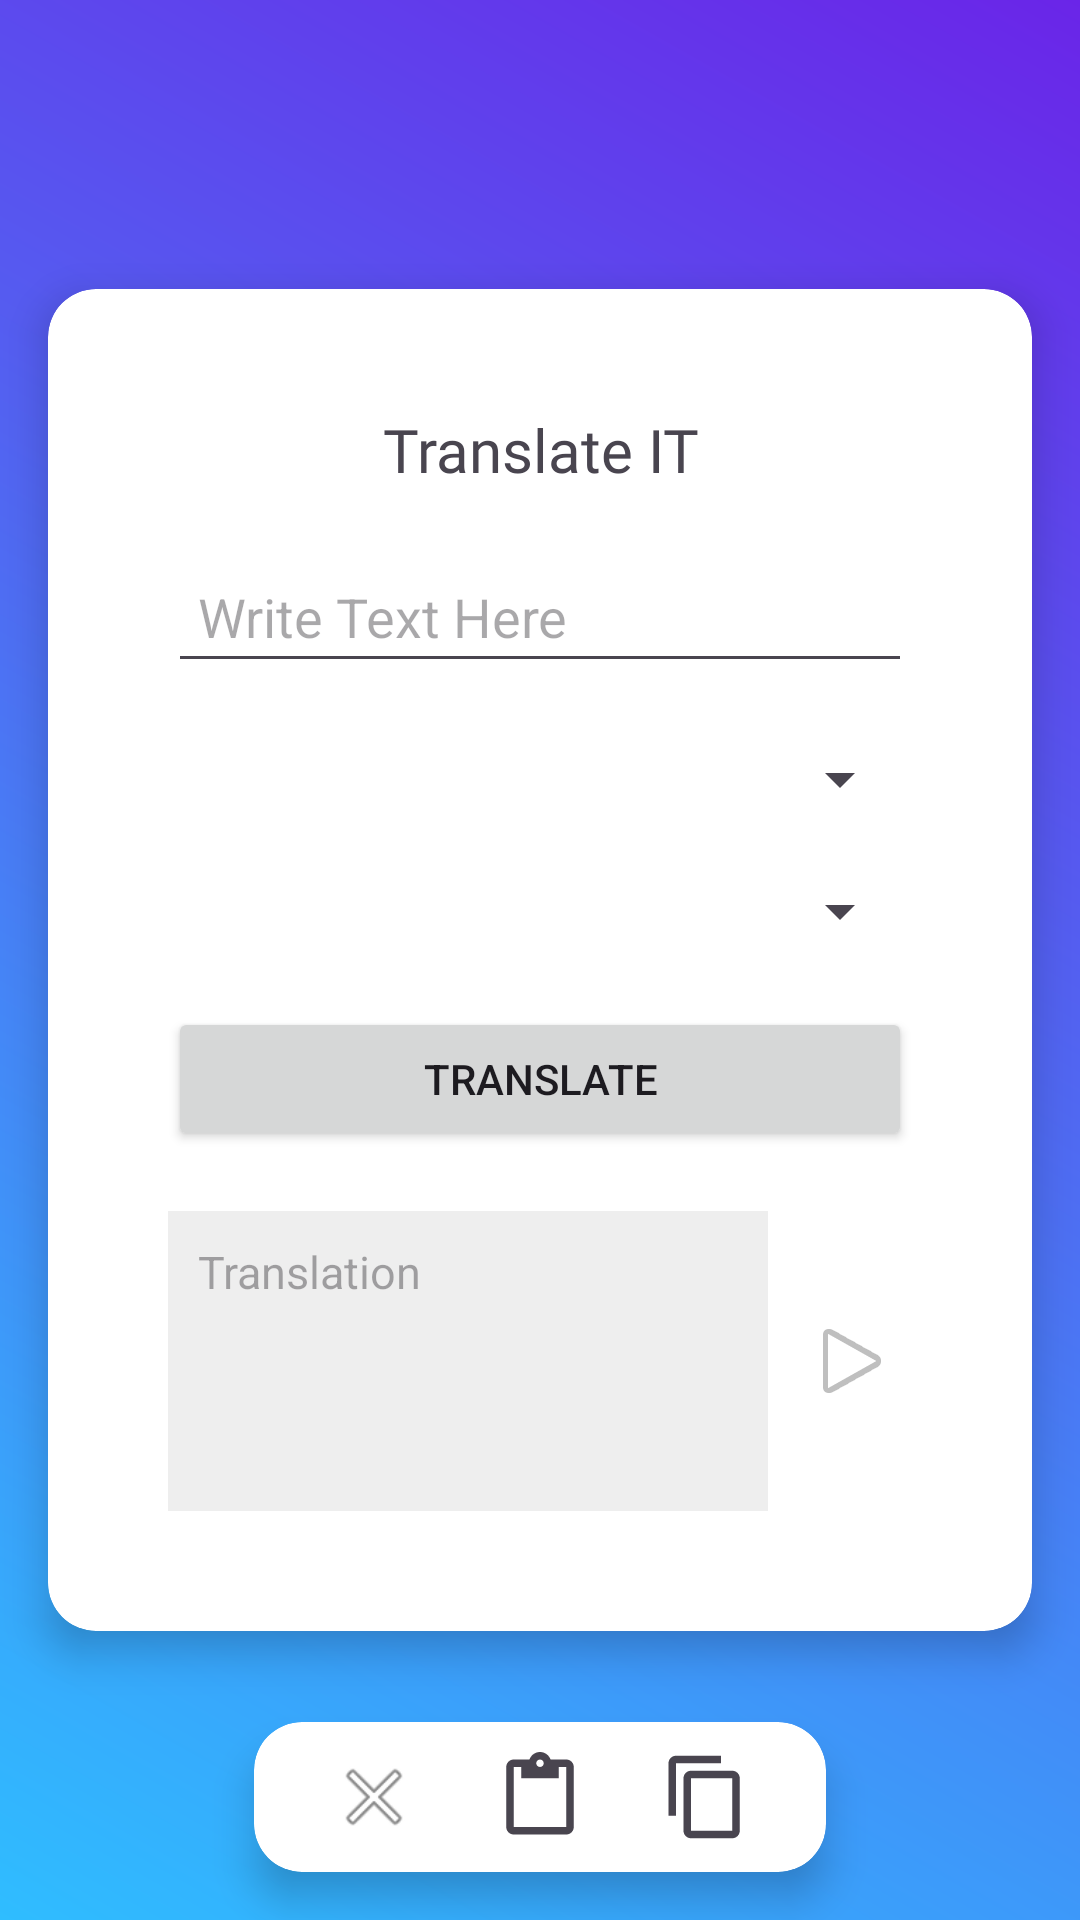

Point at icon controls on the screen. Image size 1080*1920, points as [x,y].
close clear cancel: [374,1797]
